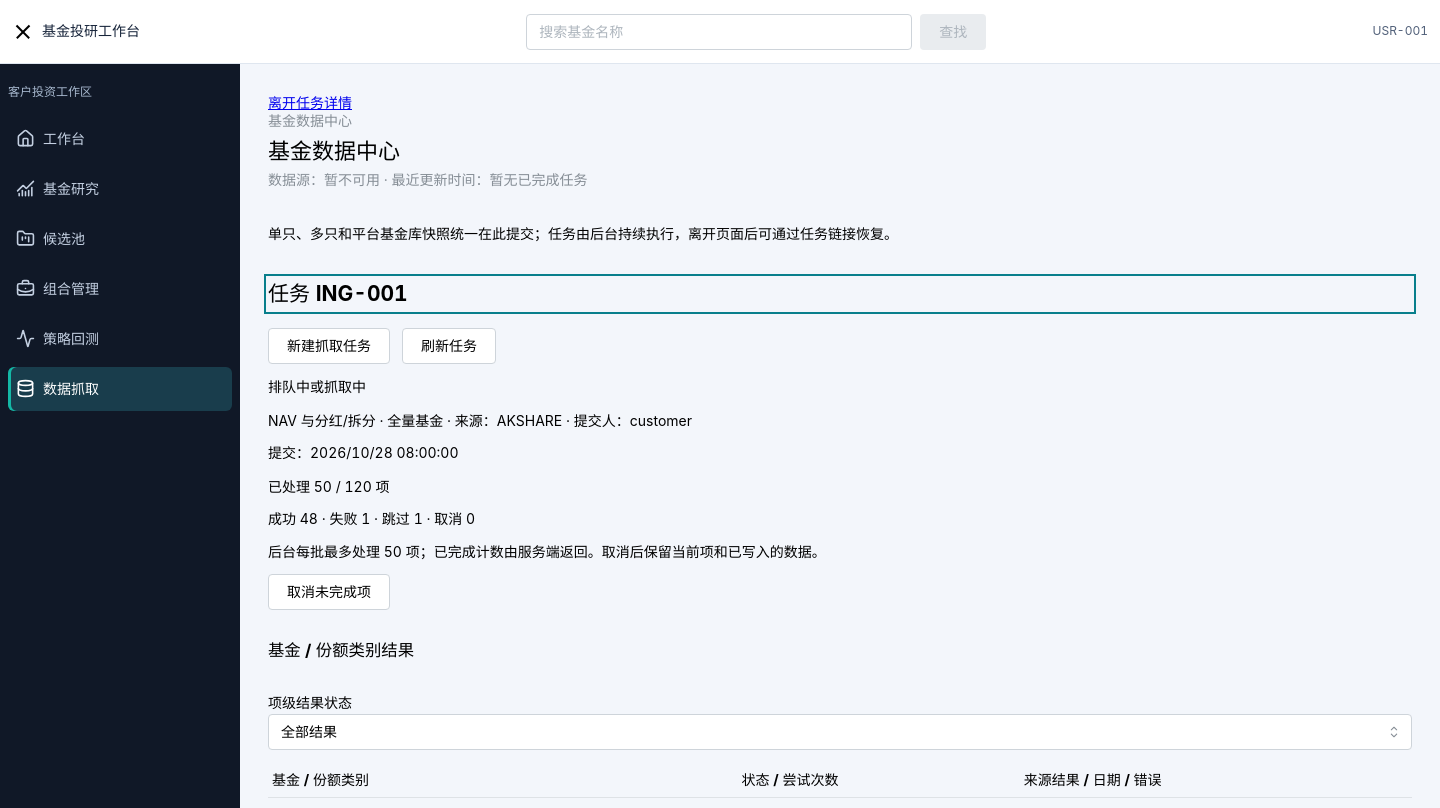
fund data center › refreshes fund caches when a job completes after leaving its detail route
Expected: the heading "任务 ING-001" is shown, top-left (268, 281), bottom-right (408, 306)
Click the link "离开任务详情" at (310,102), box top-left (268, 94), bottom-right (352, 111)
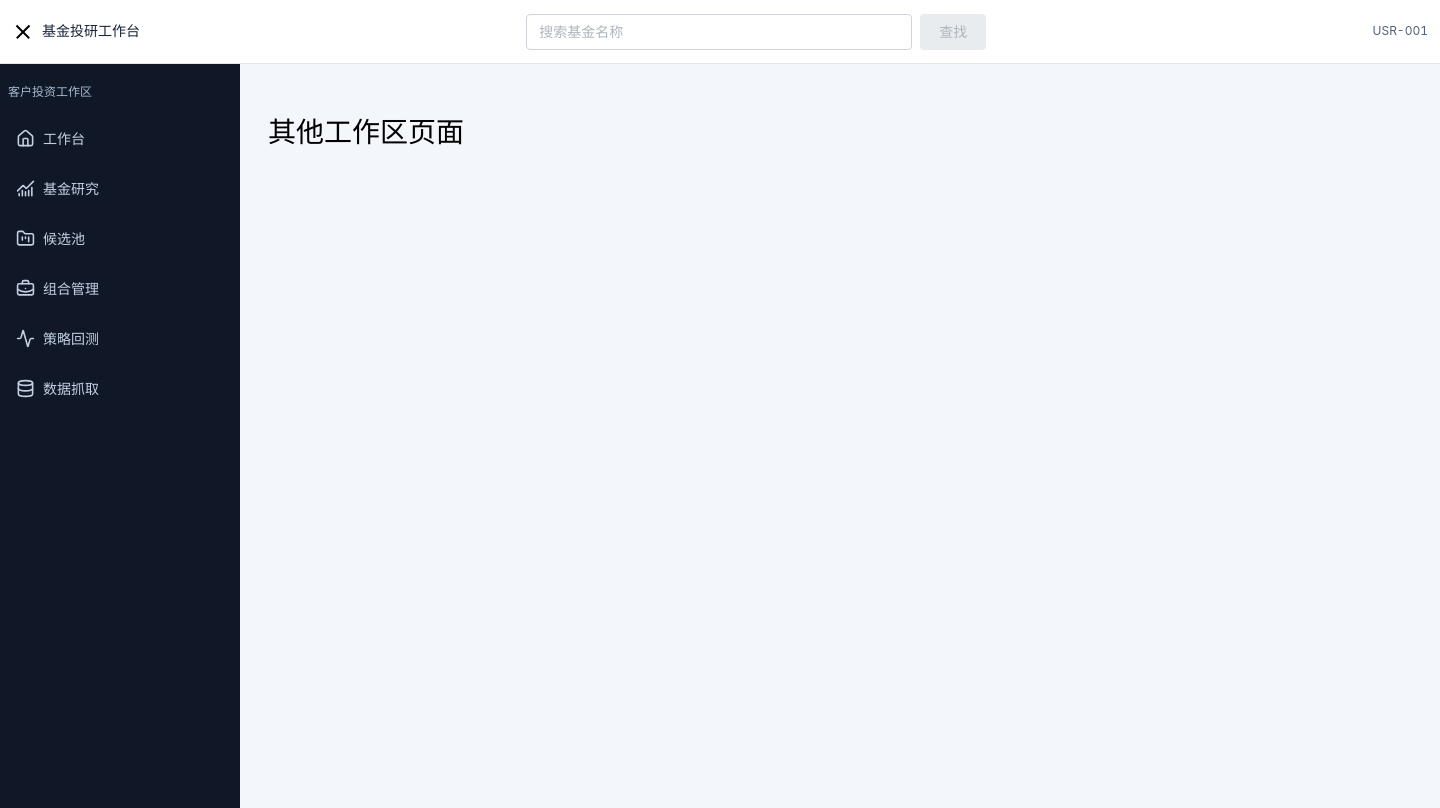
Result: the heading "其他工作区页面" is shown at top-left (268, 115), bottom-right (464, 149)
